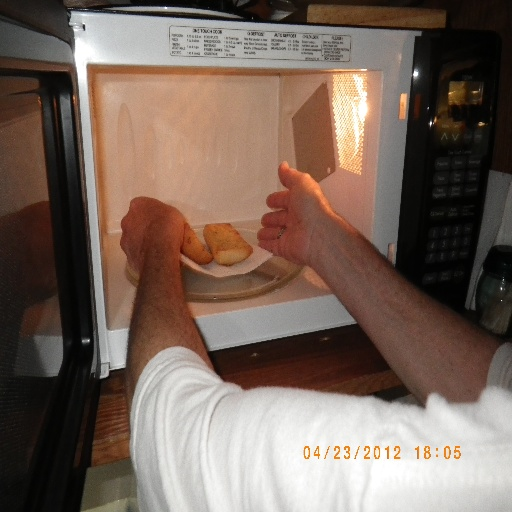hand: (257, 151, 348, 276), (120, 193, 213, 275)
